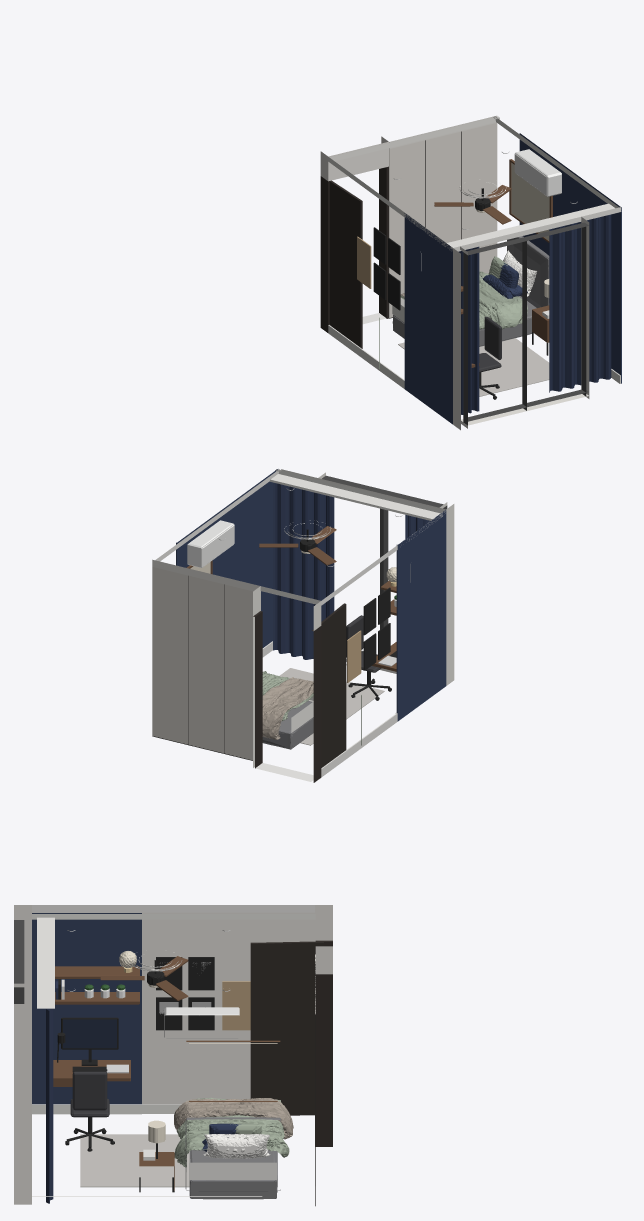
Rendered from ROOM2.glb.
The picture shows the model from 3 angles, top to bottom: view 1: azimuth 30°, elevation 25°; view 2: azimuth 150°, elevation 25°; view 3: azimuth 270°, elevation 25°; orthographic projection. The views are drawn at different scales.
Visible parts, largest first — view 1: WEB_ROOM2; view 2: WEB_ROOM2; view 3: WEB_ROOM2.
Part boxes in pixels (bbox=[...]): WEB_ROOM2: bbox=[320, 115, 621, 430]; WEB_ROOM2: bbox=[152, 469, 454, 782]; WEB_ROOM2: bbox=[14, 905, 332, 1206].
Bounding box in the file's own units: 5.1 × 2.5 × 6.95.
